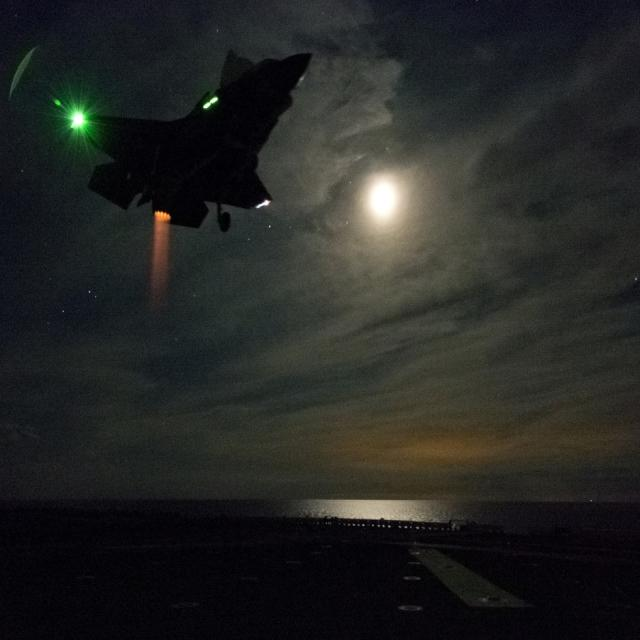MIL_Plane: (71, 49, 313, 232)
